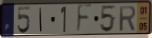1: (60, 6, 67, 34)
5: (100, 4, 118, 33), (16, 6, 31, 35)
F: (75, 3, 94, 35)
I: (38, 6, 43, 33)
R: (118, 5, 137, 33)
